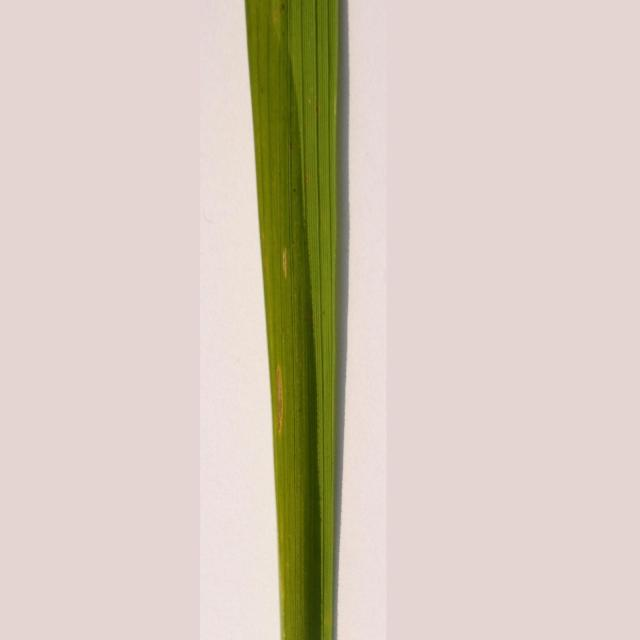Bacterial leaf blight: (270, 342, 296, 454), (266, 237, 308, 296)
